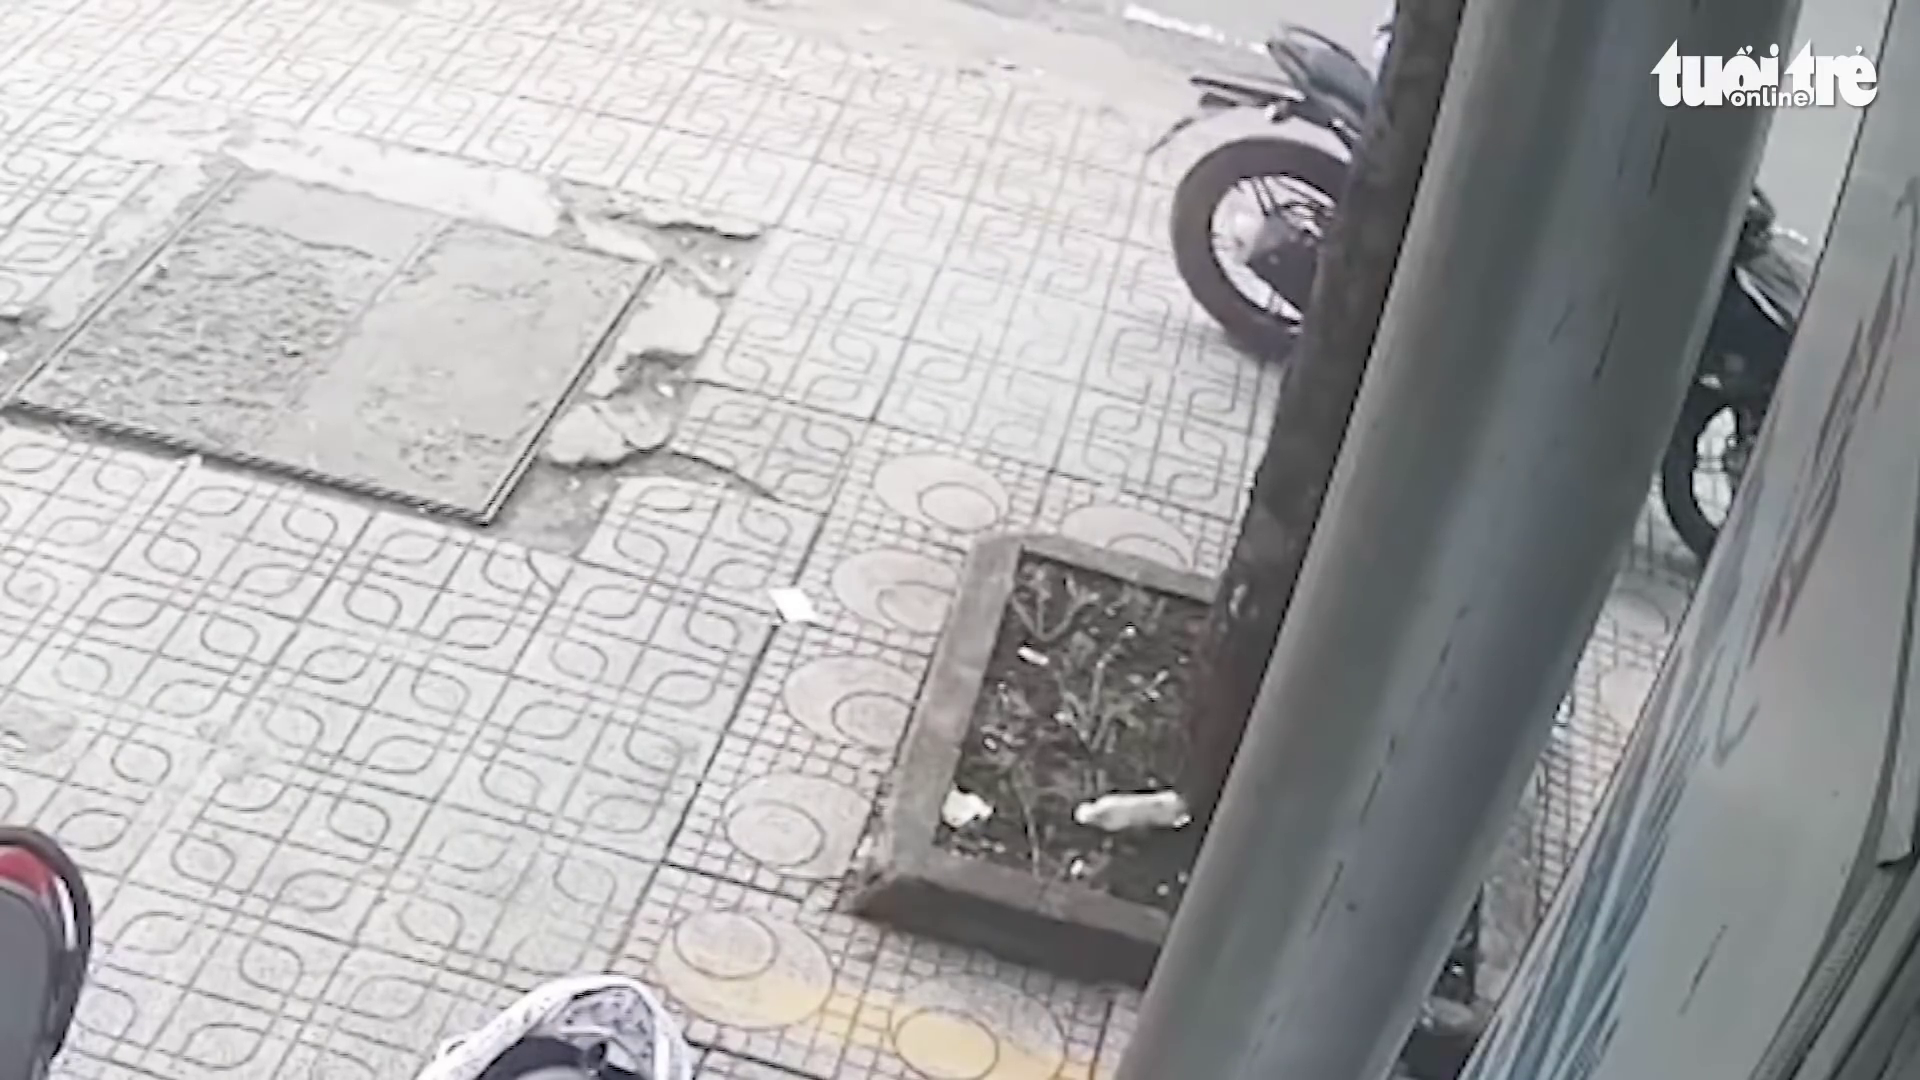Motorcycle: (1167, 24, 1377, 361), (1659, 186, 1817, 566)
